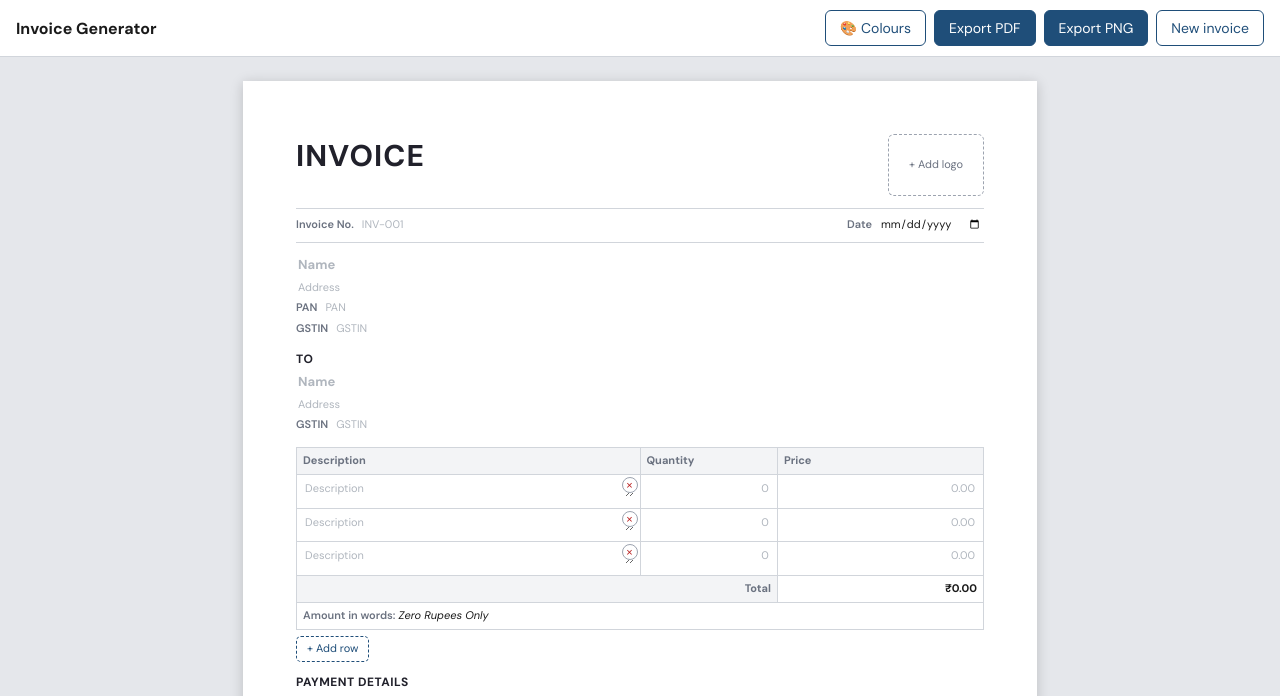
Test case: App › adds and removes rows
Click the button "+ Add row": (333, 649) [296,636,369,662]
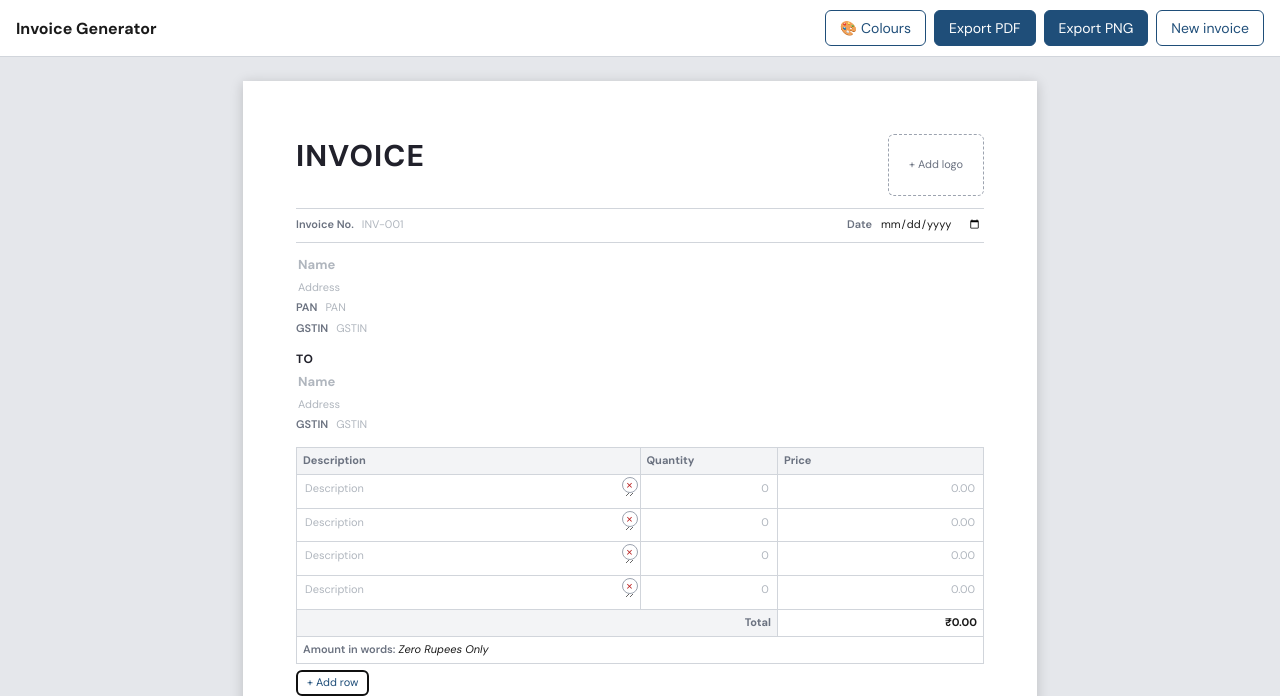
expect the number of text boxes with placeholder "Description" is 4: met, box [303,480,634,498]; [303,514,634,532]; [303,548,634,566]; [303,581,634,599]
Click the button named "Remove row": (630, 485) [622,477,638,493]
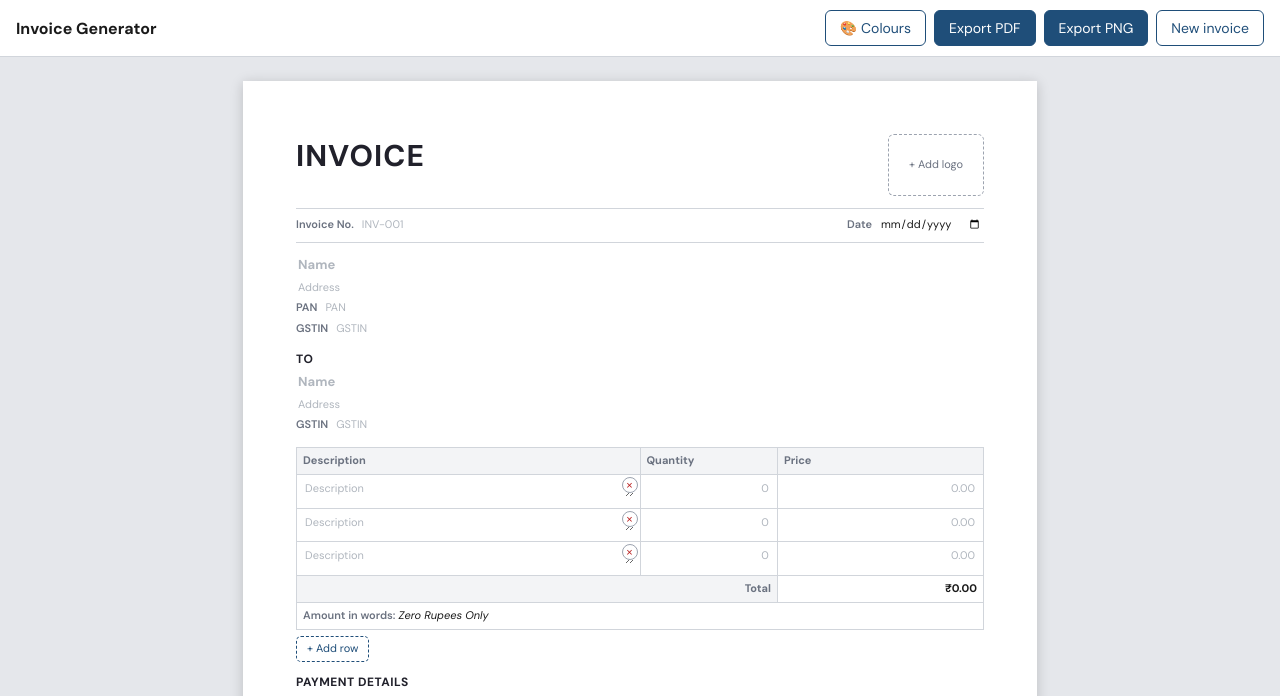
expect the number of text boxes with placeholder "Description" is 3: met, box [303,480,634,498]; [303,514,634,532]; [303,548,634,566]
